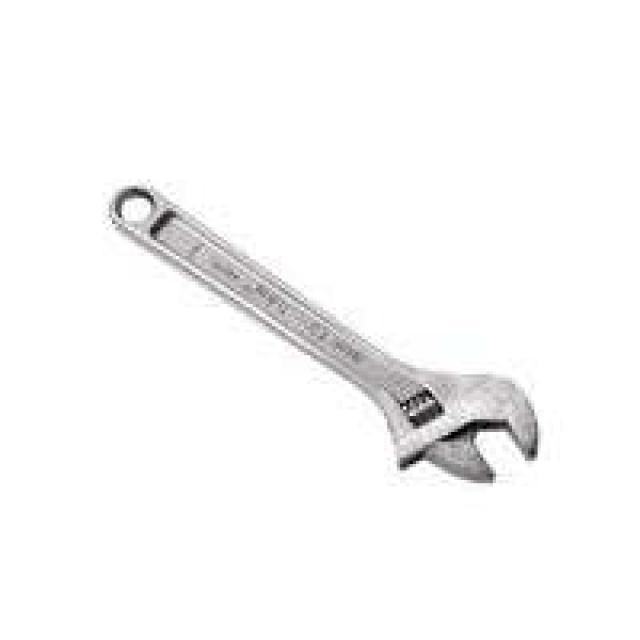wrench: (100, 173, 548, 502)
